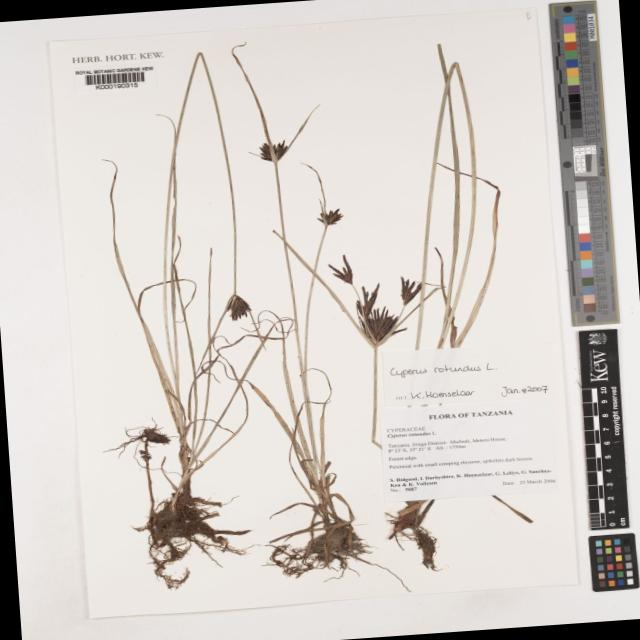cyperus: (326, 245, 427, 348), (248, 130, 298, 172), (220, 288, 254, 327), (312, 202, 348, 230)
